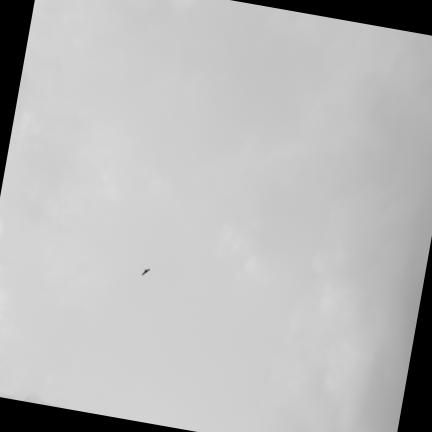Shahed: (140, 266, 152, 277)
